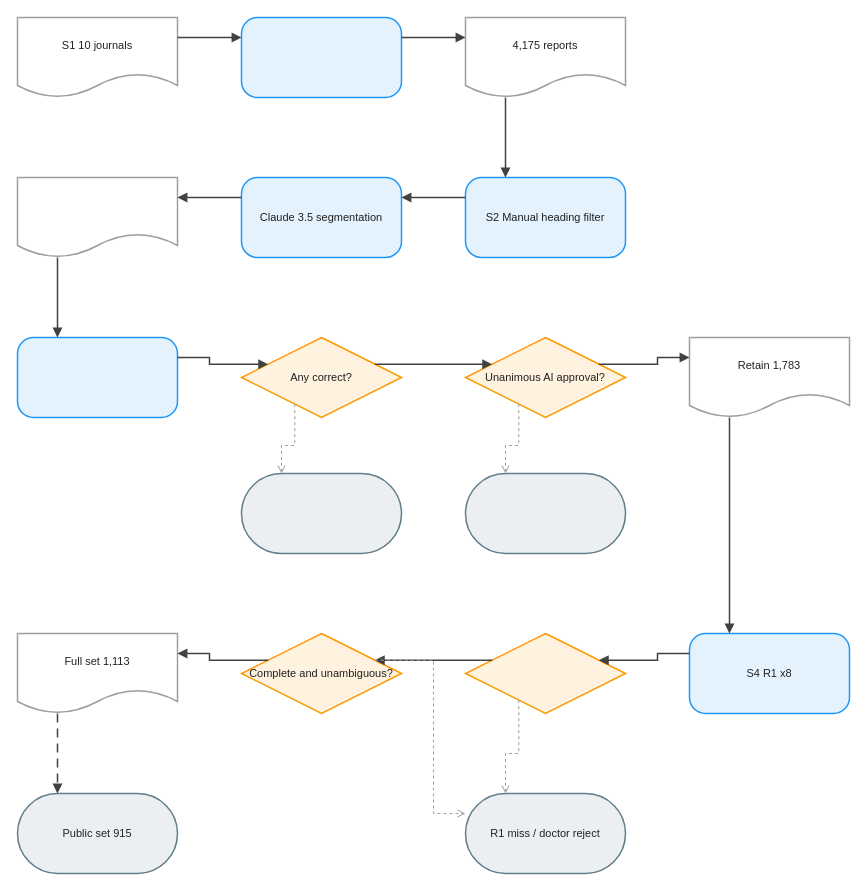
This 868x892 diagram has some shape labels left out. The shapes that lost their labels are listed below. From the top down, each one's box as (x1, y1, x2, y2) in pixels, then its label:
(240, 16, 402, 98): Filter + fetch
(16, 176, 178, 258): 4-field cases
(16, 336, 178, 418): S3 3 models × 2 attempts
(240, 472, 402, 554): Easy discard
(464, 472, 626, 554): Non-unanimous discard
(464, 632, 626, 714): Diagnosed within 8?
